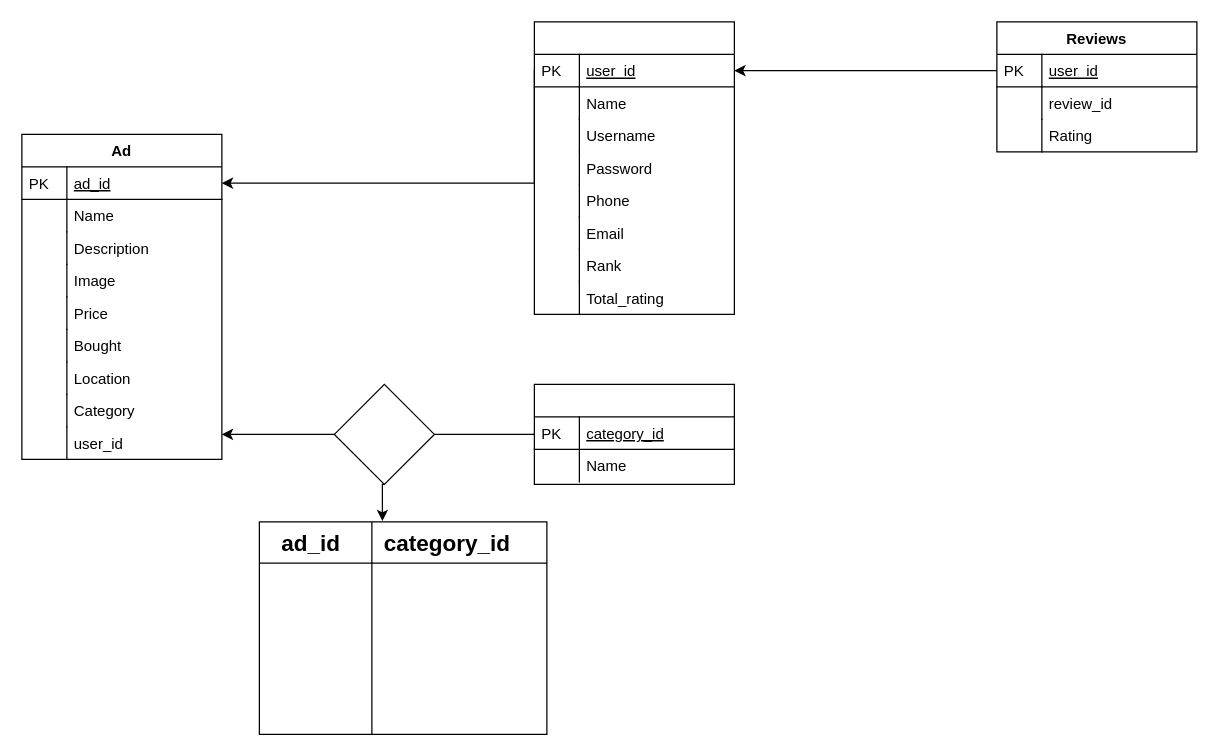
This 1219x756 diagram has some shape labels left out. The shapes that lost their labels are listed below. From the top down, each one's box as (x1, y1, x2, y2) in pixels, then its label:
(533, 21, 734, 314): Users
(533, 383, 734, 484): Catgory
